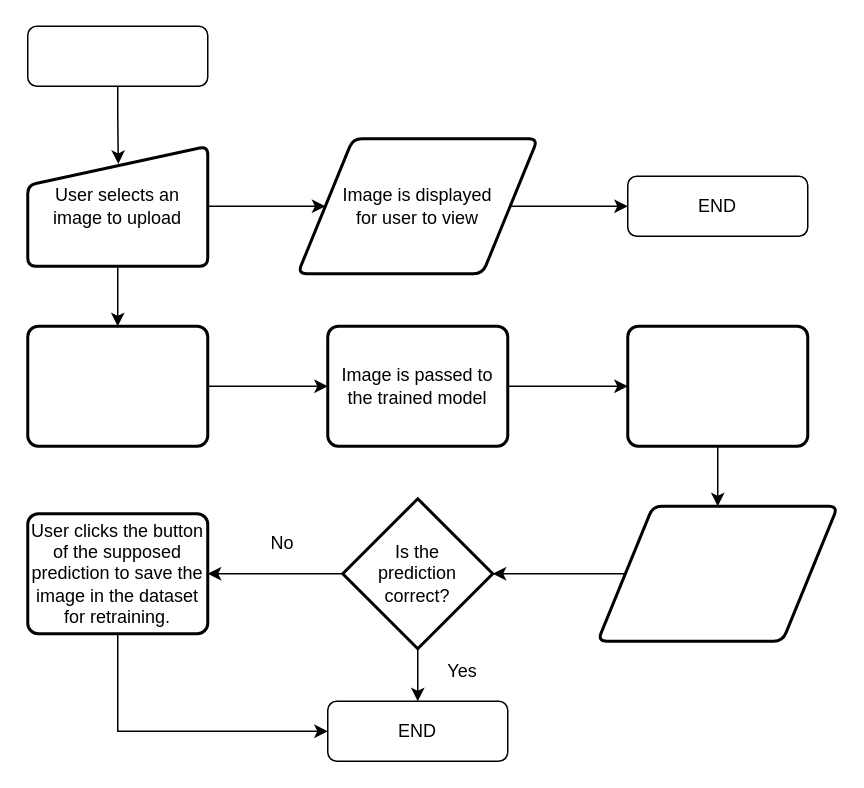
The diagram is 864 pixels wide and 788 high, and some of its shapes have lost their labels. Here are the shapes that lost their labels. From the top down, the box of each, then its label:
(26, 25, 208, 86): START
(26, 324, 208, 447): User clicks "Predict" button to initialize the image recognition
(626, 324, 808, 447): Model prediction is in progress
(596, 504, 838, 642): Prediction results are displayed
